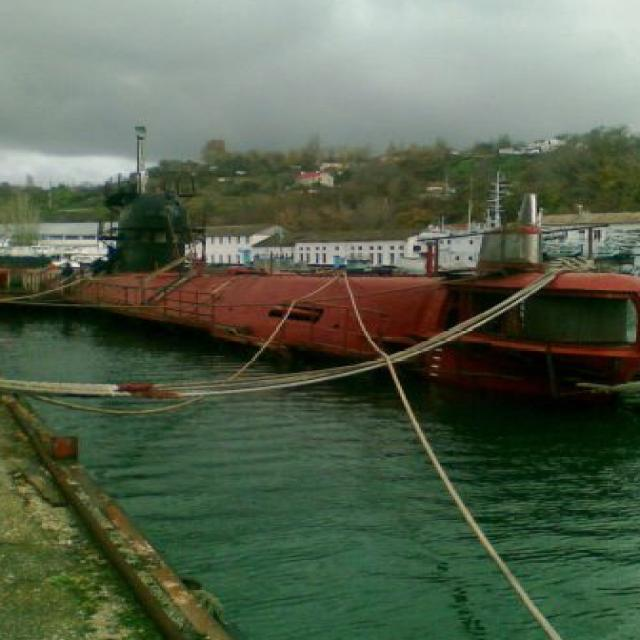submarine: (48, 169, 640, 401)
